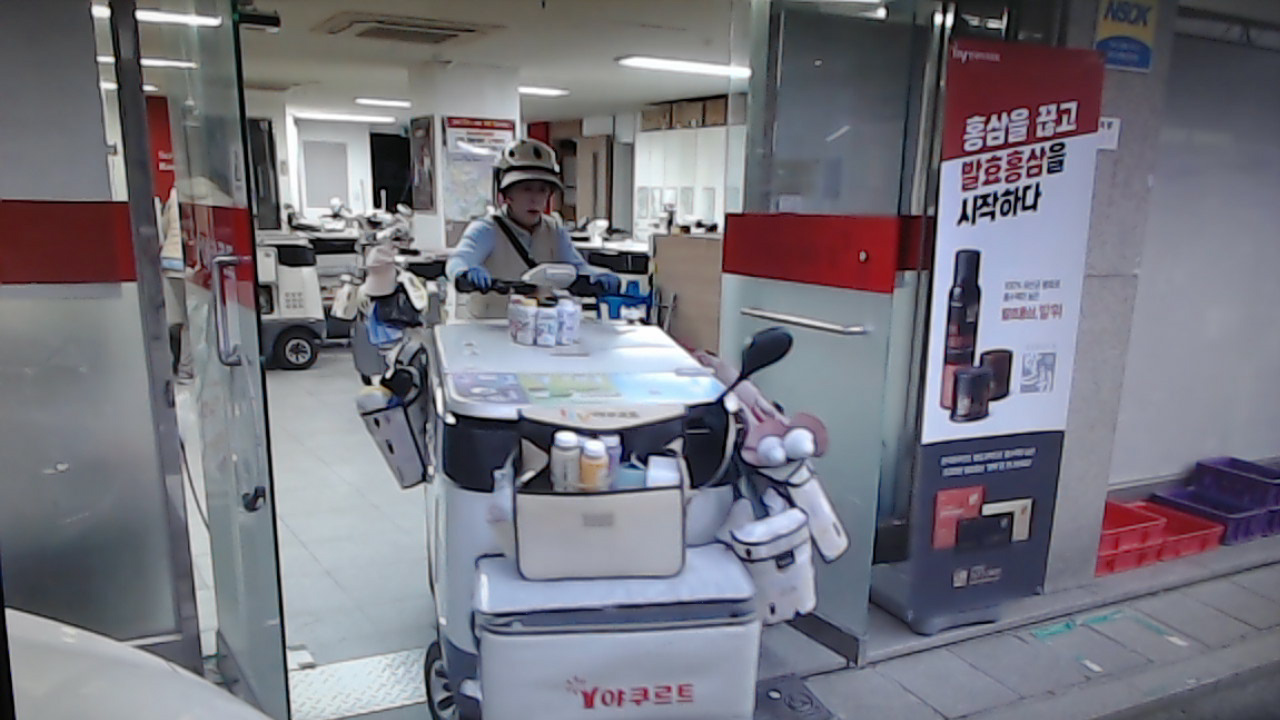Yakurut: (442, 140, 637, 301)
